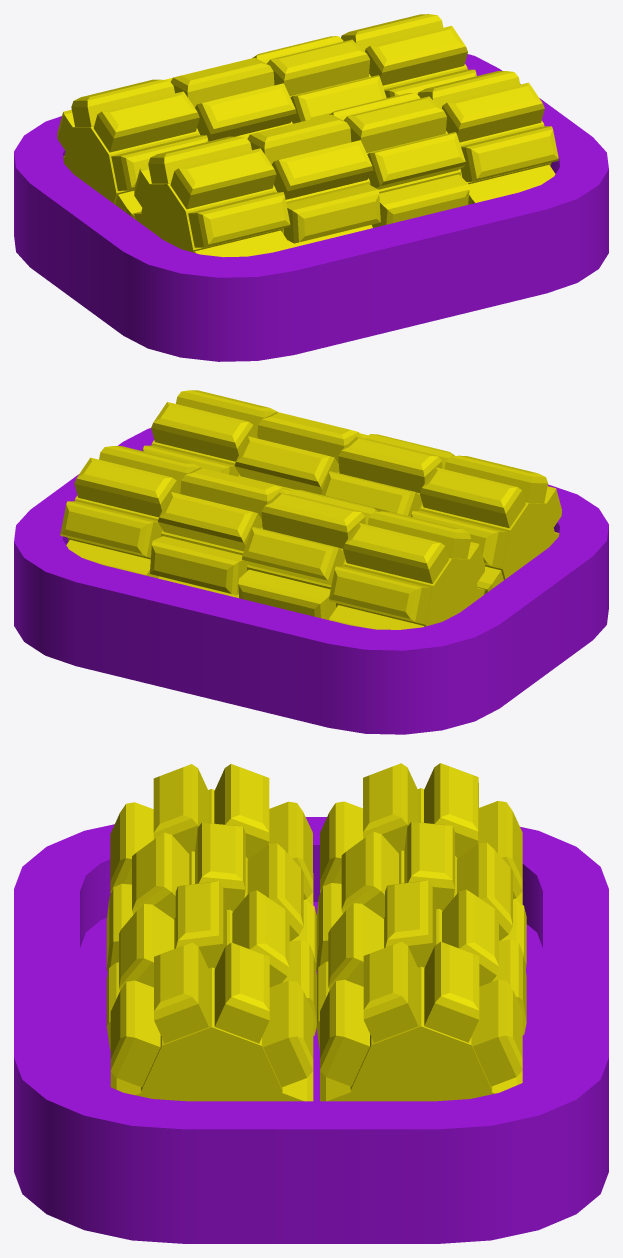
The model's file is testere.fbx.
3 renders of one model, top to bottom at view 1: azimuth 30°, elevation 25°; view 2: azimuth 150°, elevation 25°; view 3: azimuth 270°, elevation 25°, orthographic. The views are drawn at different scales.
Parts seen in each view (by area): view 1: Cube, Cylinder.001, Cylinder.002; view 2: Cube, Cylinder.002, Cylinder.001; view 3: Cube, Cylinder.001, Cylinder.002.
Part boxes in pixels (left/top/right/bottom): Cube: left=14, top=54, right=608, bottom=361; Cylinder.001: left=134, top=71, right=558, bottom=257; Cylinder.002: left=57, top=14, right=476, bottom=218; Cube: left=14, top=428, right=608, bottom=734; Cylinder.002: left=60, top=446, right=484, bottom=629; Cylinder.001: left=142, top=390, right=561, bottom=594; Cube: left=14, top=817, right=608, bottom=1243; Cylinder.001: left=106, top=764, right=316, bottom=1101; Cylinder.002: left=316, top=763, right=526, bottom=1101.
Size of the model in its own units: 192 by 60.51 by 155.
